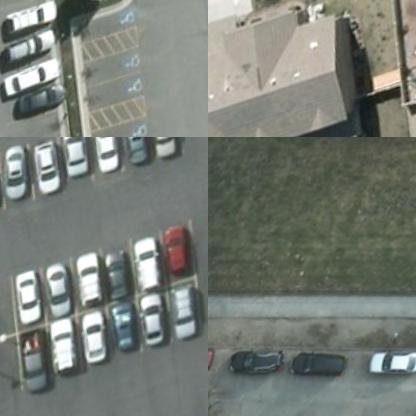car: (233, 338, 298, 390), (298, 338, 360, 392), (51, 319, 98, 387), (18, 327, 65, 395), (138, 294, 184, 362), (100, 240, 146, 307), (80, 311, 126, 378), (161, 219, 206, 286), (42, 258, 87, 325), (73, 250, 118, 317), (129, 231, 174, 298), (0, 141, 44, 209), (27, 137, 72, 203), (11, 266, 56, 332), (110, 302, 154, 369), (167, 284, 207, 352), (4, 62, 66, 103), (2, 32, 64, 73), (3, 2, 64, 43), (89, 137, 135, 188), (55, 137, 101, 185), (19, 86, 75, 124), (372, 346, 415, 394), (118, 137, 164, 180), (144, 137, 190, 172), (208, 332, 225, 380), (0, 149, 11, 217)
